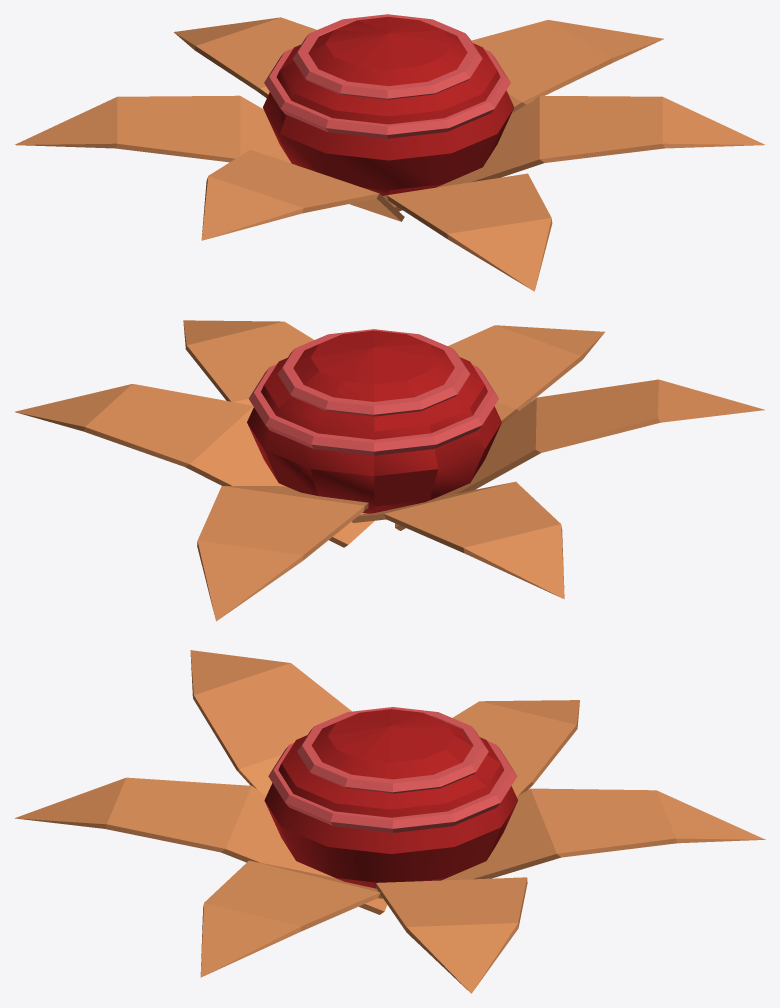
Rendered from Flower_f_b_02.fbx.
3 views of the same model, one above another, from view 1: azimuth 30°, elevation 25°; view 2: azimuth 150°, elevation 25°; view 3: azimuth 270°, elevation 25° (orthographic).
Parts seen in each view (by area): view 1: Flower_f_b_02_LOD0; view 2: Flower_f_b_02_LOD0; view 3: Flower_f_b_02_LOD0.
Boxes of the visible parts, x1,y1,x2,y2 form: Flower_f_b_02_LOD0: (15,14,764,291); Flower_f_b_02_LOD0: (14,320,764,621); Flower_f_b_02_LOD0: (15,650,765,993).
Size of what is drawn, in the model's own units: 3.92 by 1.07 by 4.2.
